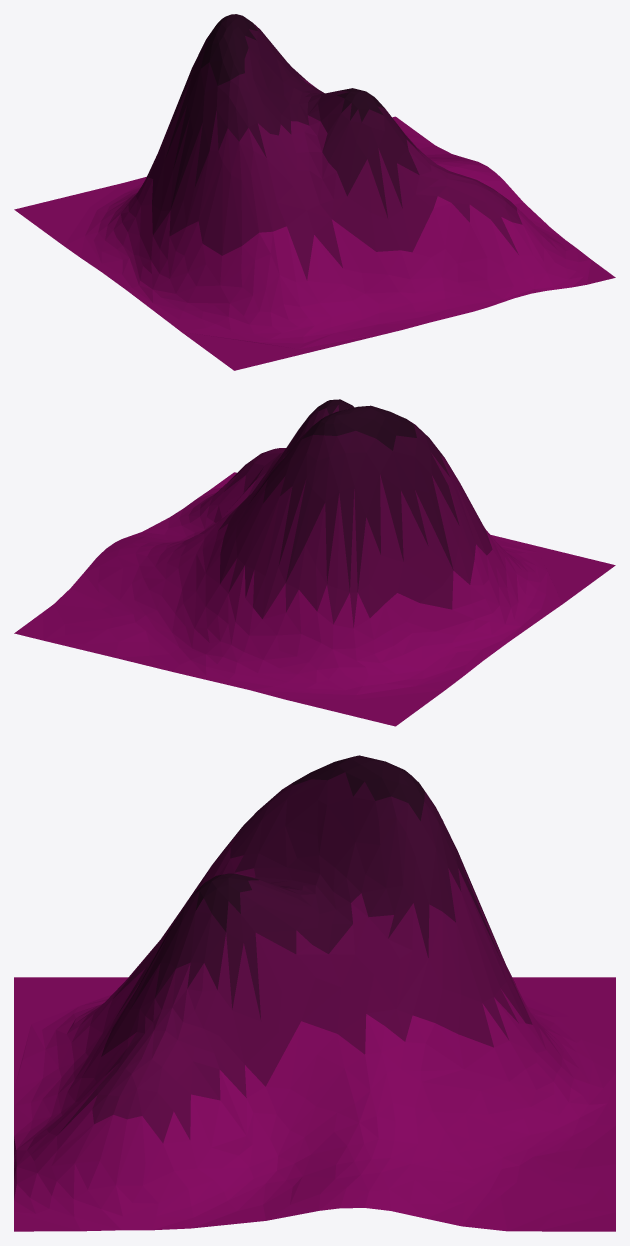
File: MountainSingle2.fbx
3 views of the same model, one above another, from view 1: azimuth 30°, elevation 25°; view 2: azimuth 150°, elevation 25°; view 3: azimuth 270°, elevation 25° (orthographic). The views are drawn at different scales.
Visible parts, largest first — view 1: Mountain2quads.001; view 2: Mountain2quads.001; view 3: Mountain2quads.001.
Part boxes in pixels (bbox=[...]): Mountain2quads.001: bbox=[14, 14, 615, 370]; Mountain2quads.001: bbox=[14, 399, 615, 726]; Mountain2quads.001: bbox=[14, 755, 615, 1231].
Size of the model in its own units: 20002 by 11088 by 20003.
